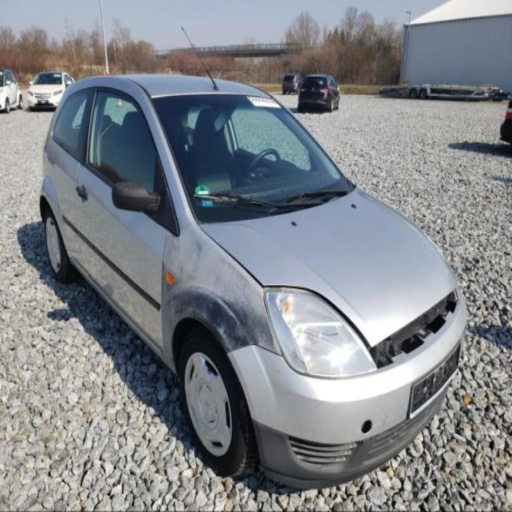rust: (161, 234, 281, 368)
